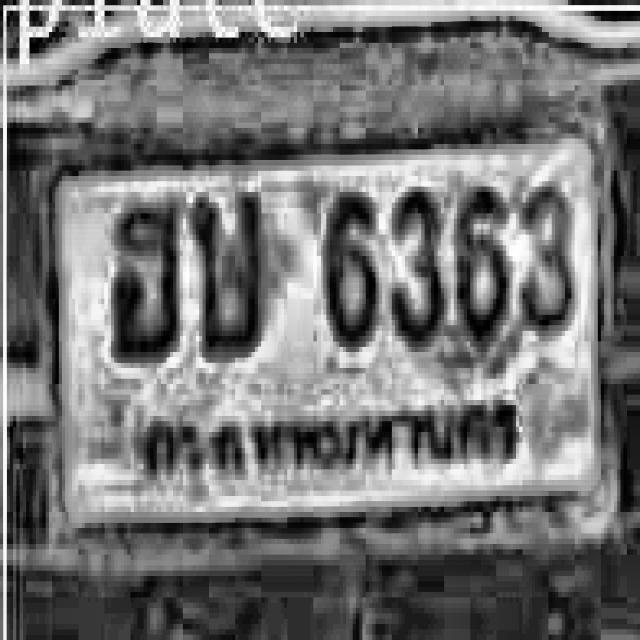license-plate: (33, 115, 618, 595)
